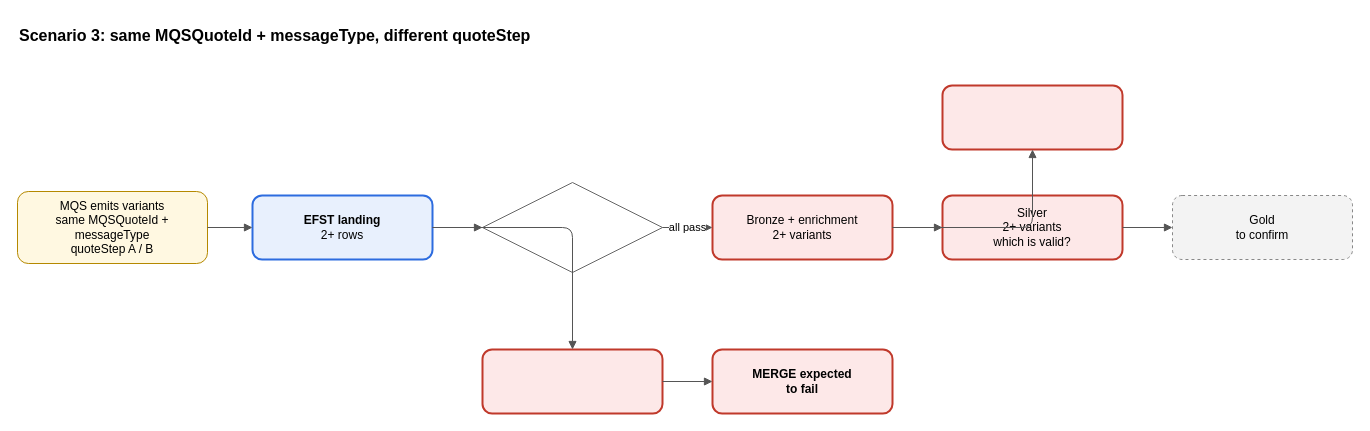
Image size: 1370x431. Some labels were removed from this diagram. The shapes that lost their labels are listed below. From the top down, each one's centre as x and y in pixels, then its label:
At (1032,117): "Pricing ART views conflicting variants".
At (572,227): "Ingestion dedup records not identical".
At (572,381): "DVLA step 1 Bronze rows > 1 multiply source".
